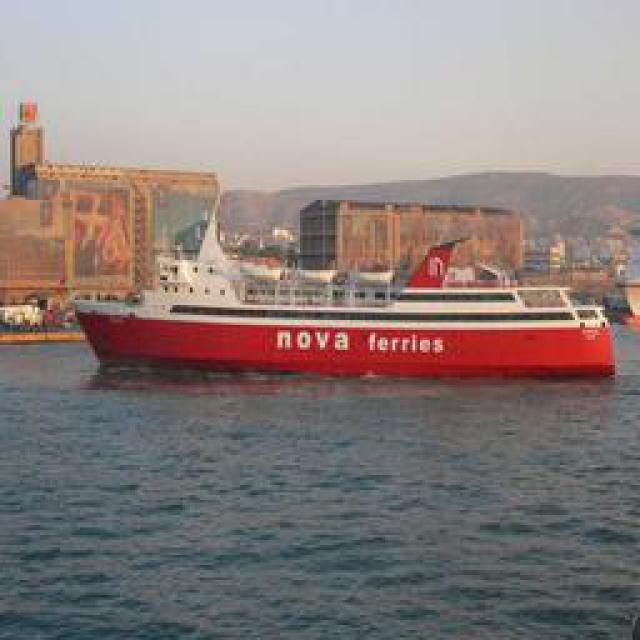Ship: (68, 180, 623, 383)
